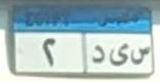2: (42, 37, 57, 69)
daal: (92, 43, 105, 64)
seen: (130, 46, 151, 65)
yaa: (109, 43, 129, 67)
